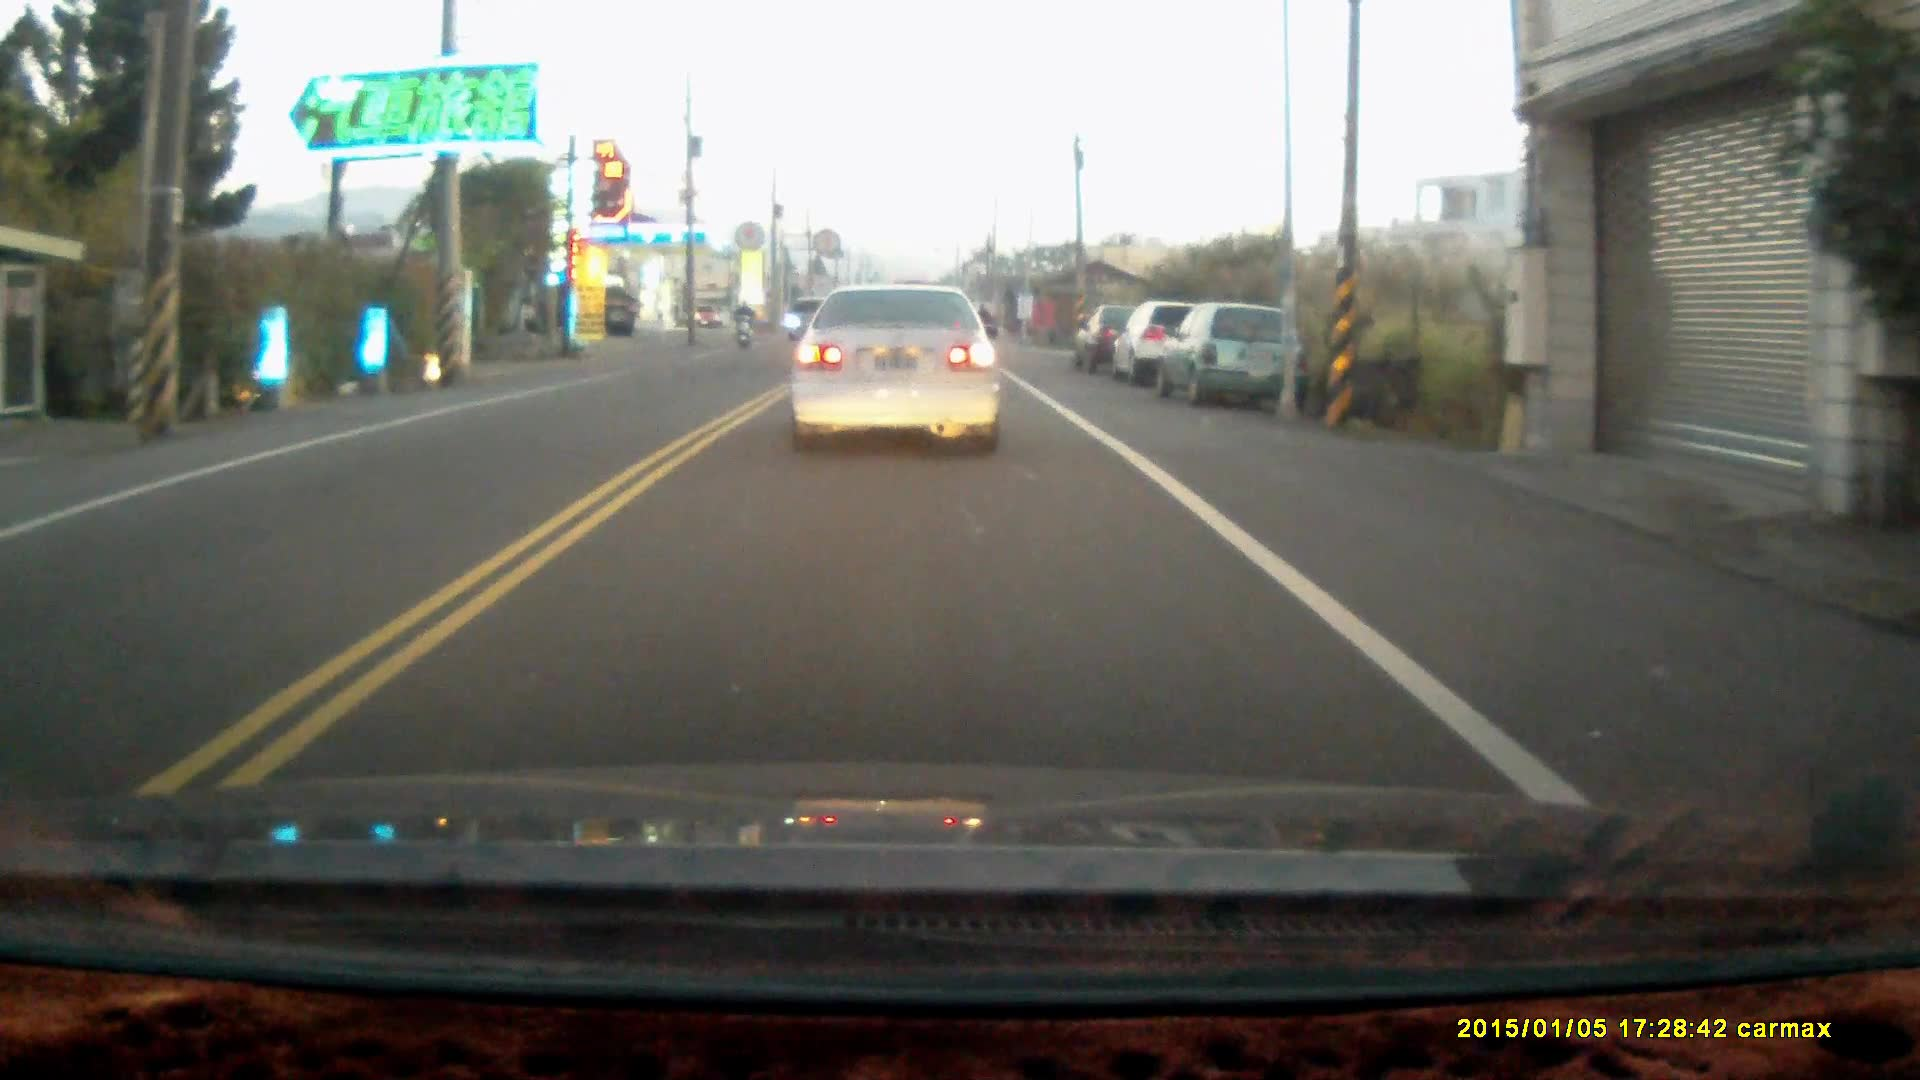rider: (731, 298, 753, 349)
vehicle: (782, 278, 1002, 460), (1165, 305, 1306, 407), (1117, 301, 1245, 389), (1072, 303, 1176, 378)
